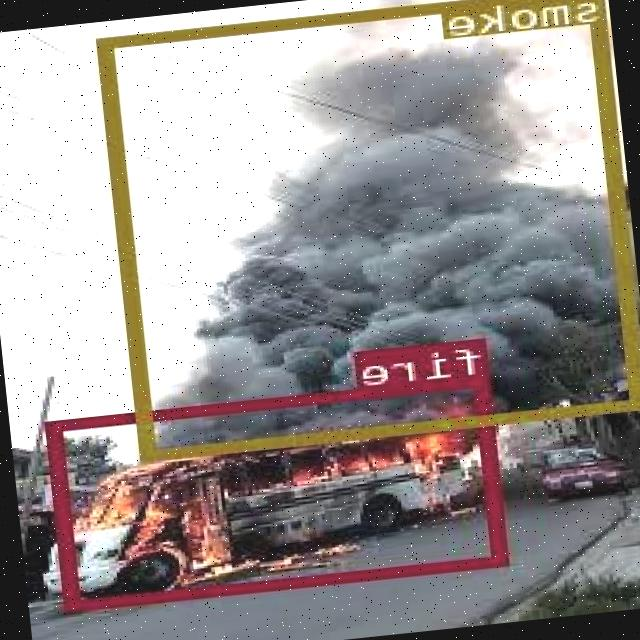fire: (47, 374, 510, 610)
smoke: (102, 0, 640, 458)
